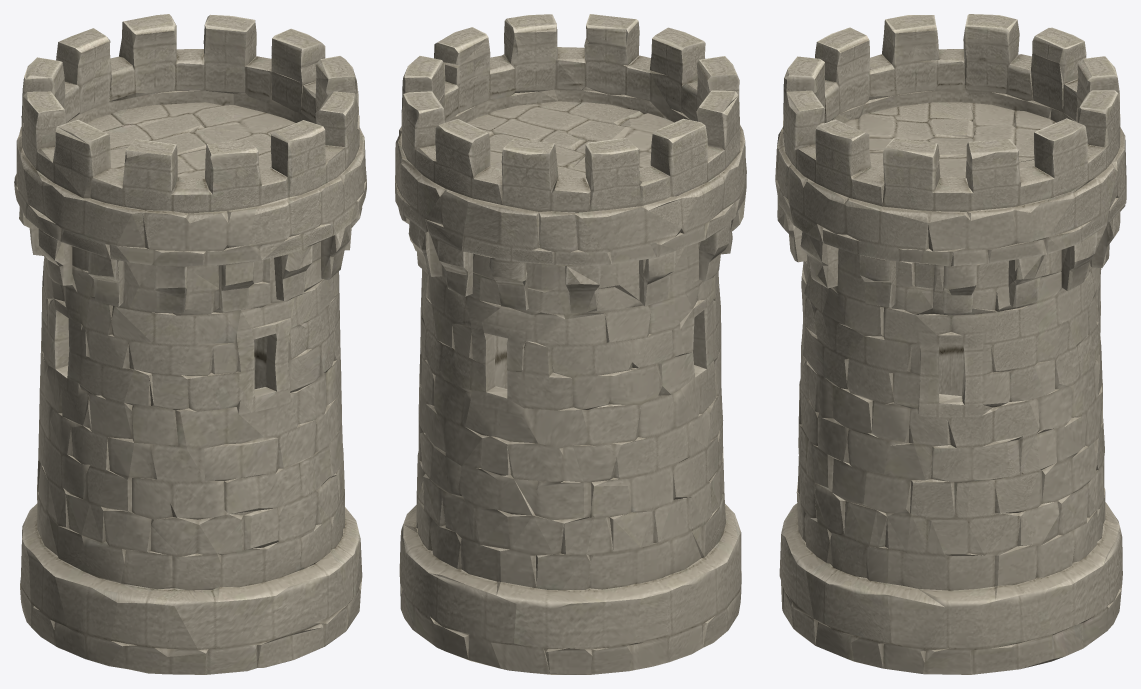
The model's file is inner_wall_tower.glb.
The picture shows the model from 3 angles, left to right: view 1: azimuth 30°, elevation 25°; view 2: azimuth 150°, elevation 25°; view 3: azimuth 270°, elevation 25°; orthographic projection.
Parts seen in each view (by area): view 1: output_unwrapped; view 2: output_unwrapped; view 3: output_unwrapped.
Part boxes in pixels (x1,y1,x2,y2): output_unwrapped: [14, 14, 366, 674]; output_unwrapped: [395, 14, 746, 674]; output_unwrapped: [775, 14, 1126, 674].
Bounding box in the file's own units: 1.16 × 1.9 × 1.16.
1 material, 1 textured.
